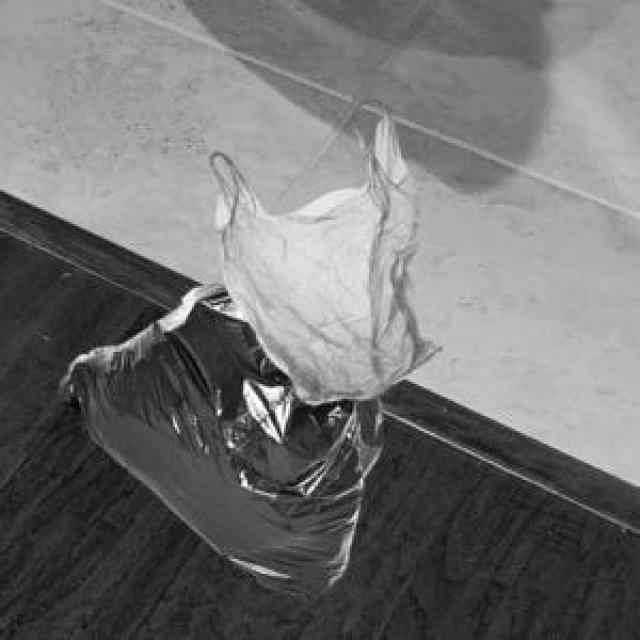miscellaneous trash: (53, 280, 378, 595)
